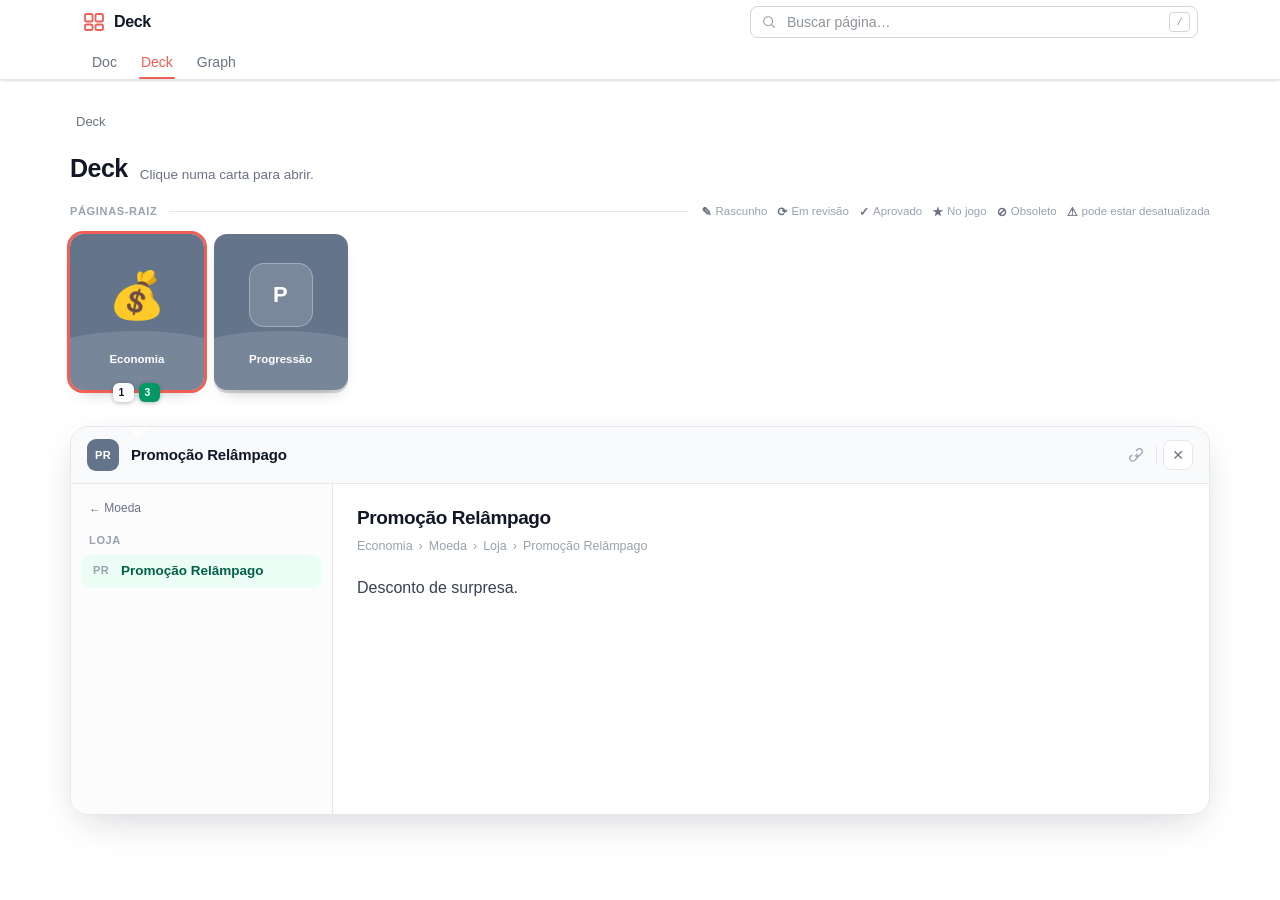
Test case: Esc na busca não fecha a gaveta
Type "moeda" into the dropdown with placeholder "Buscar página…" at (974, 22), box [750, 6, 1198, 38]
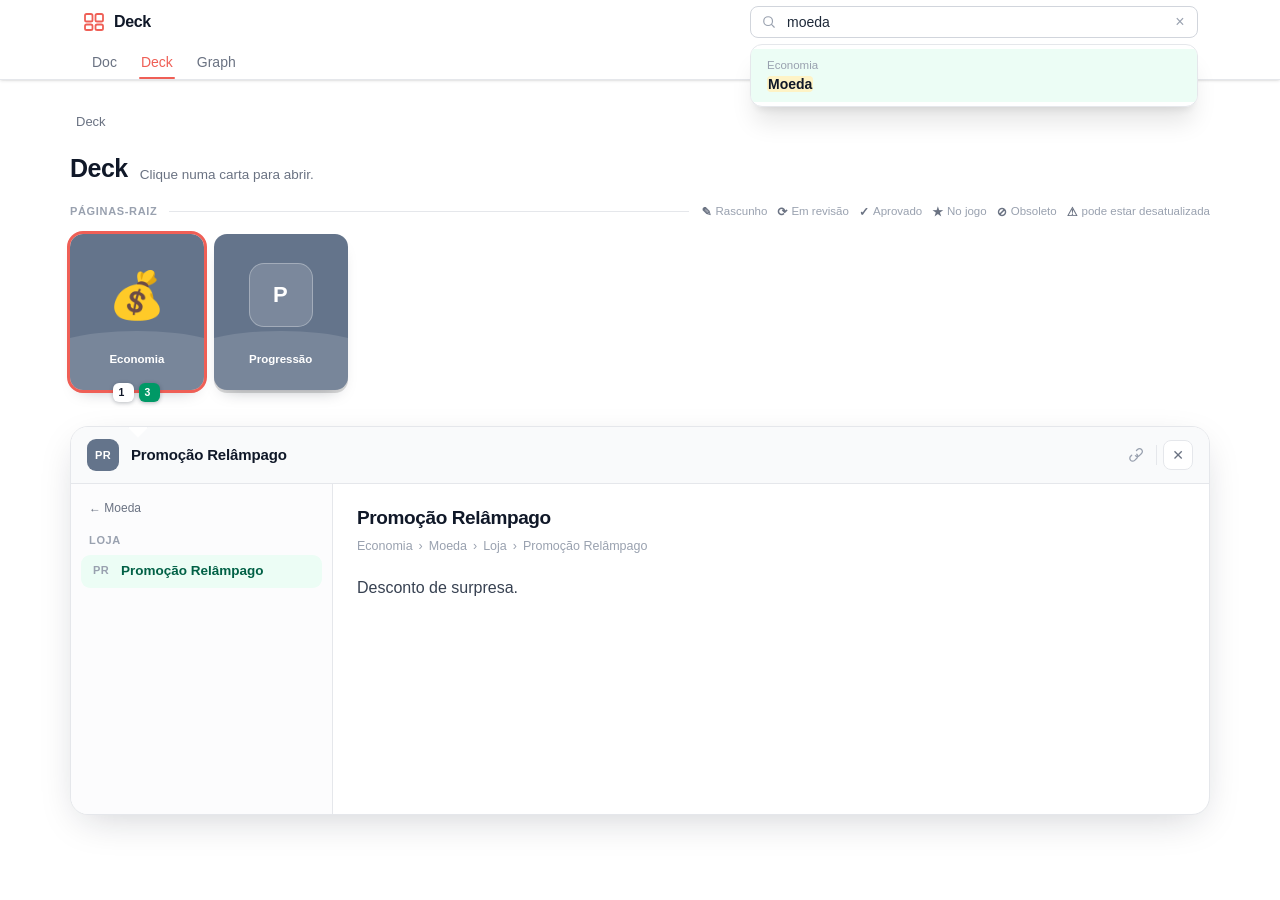
Press Enter in the dropdown with placeholder "Buscar página…", box [750, 6, 1198, 38]
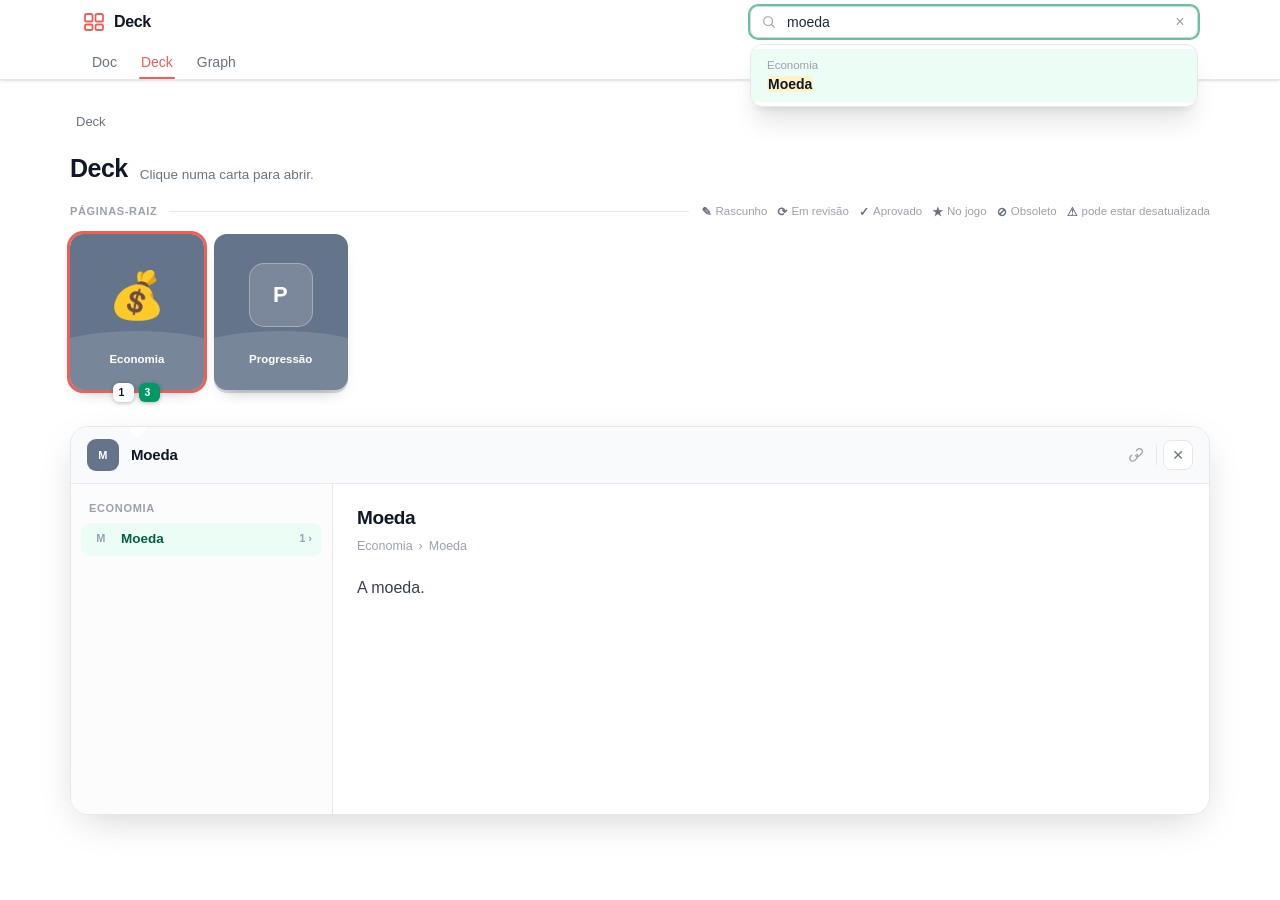
Expected: the text "A moeda." is shown, [357, 578, 425, 596]
Press Escape in the dropdown with placeholder "Buscar página…", box [750, 6, 1198, 38]
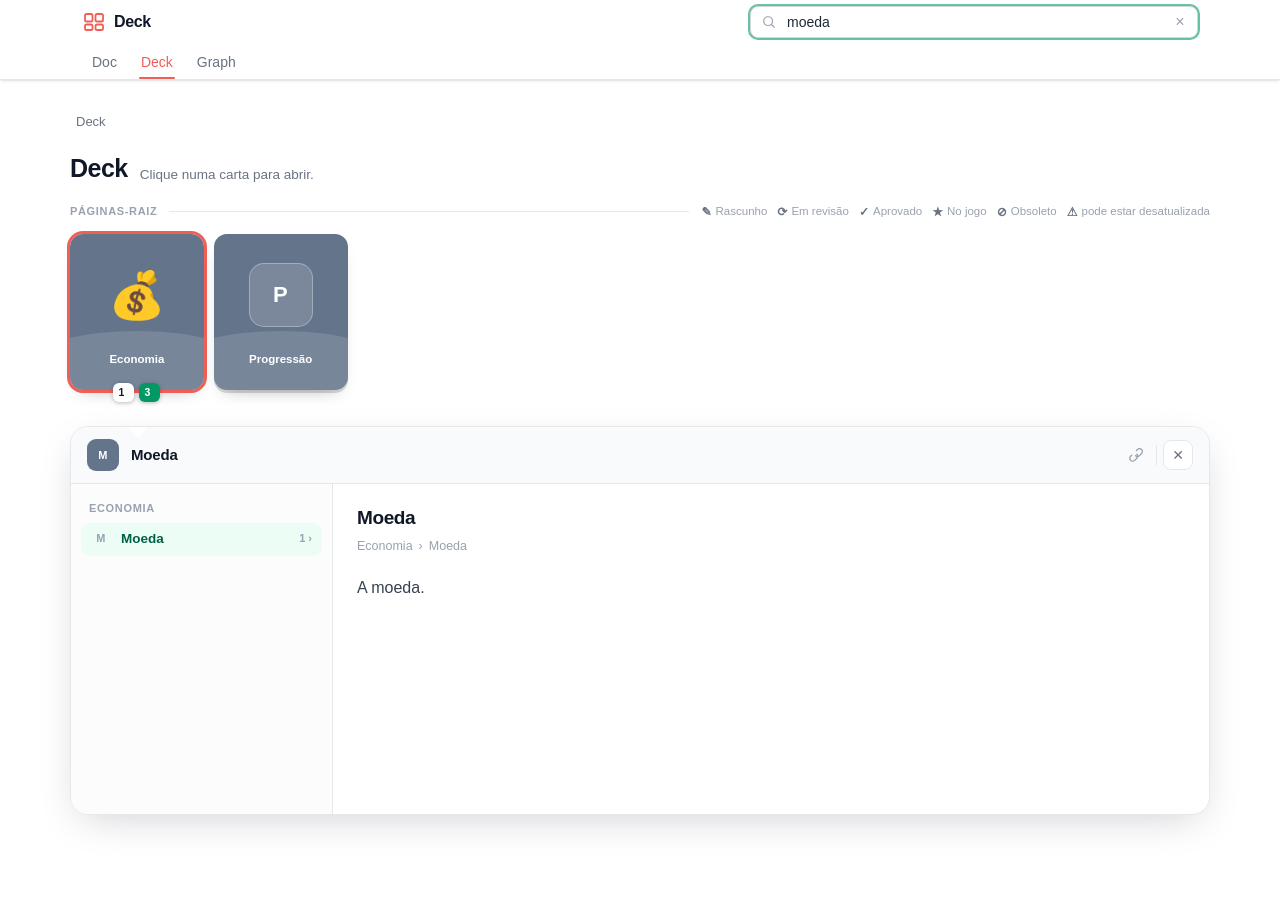
Press Escape in the dropdown with placeholder "Buscar página…", box [750, 6, 1198, 38]
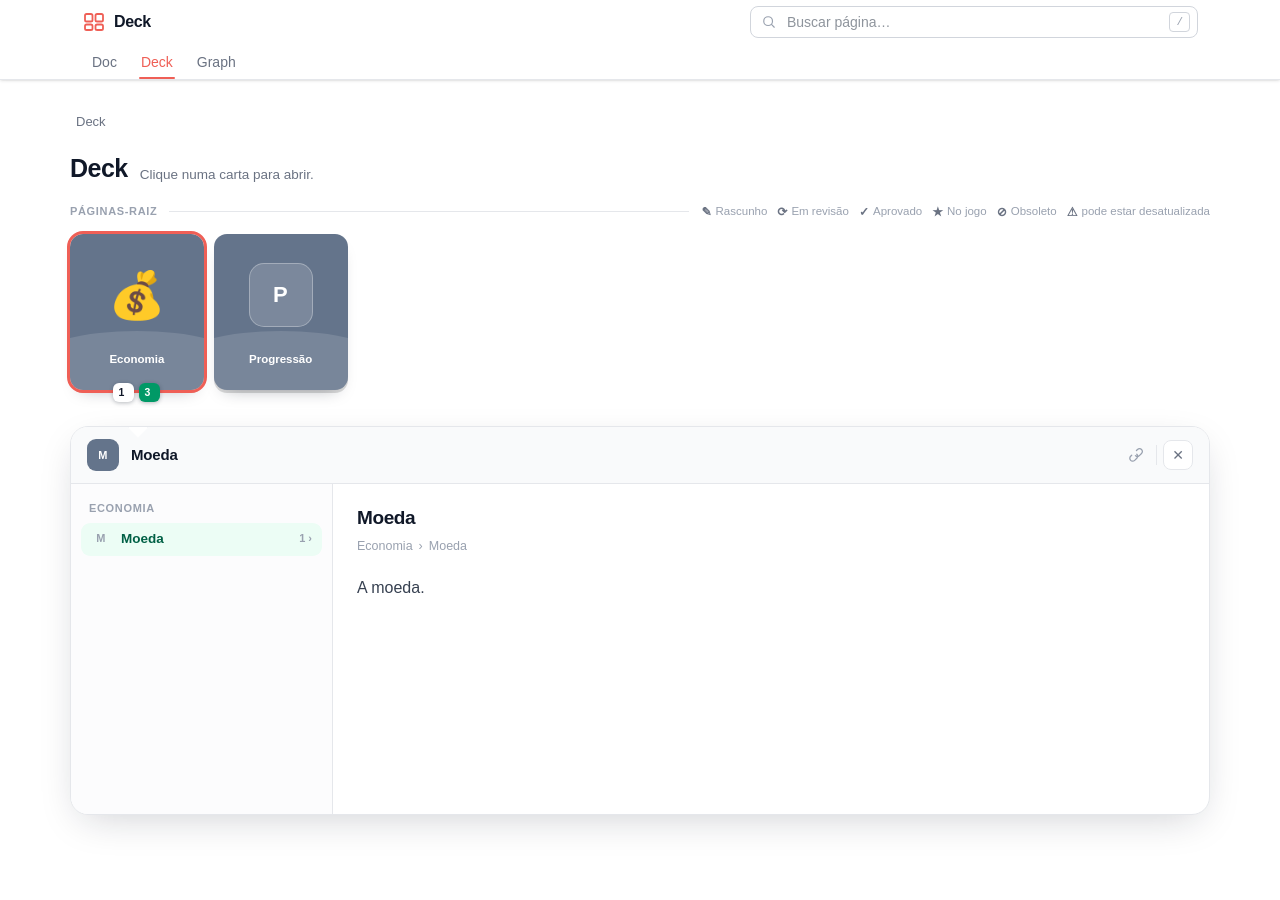
Expected: the text "A moeda." is shown, [357, 578, 425, 596]
Expected: the dropdown with placeholder "Buscar página…" is empty, [750, 6, 1198, 38]
